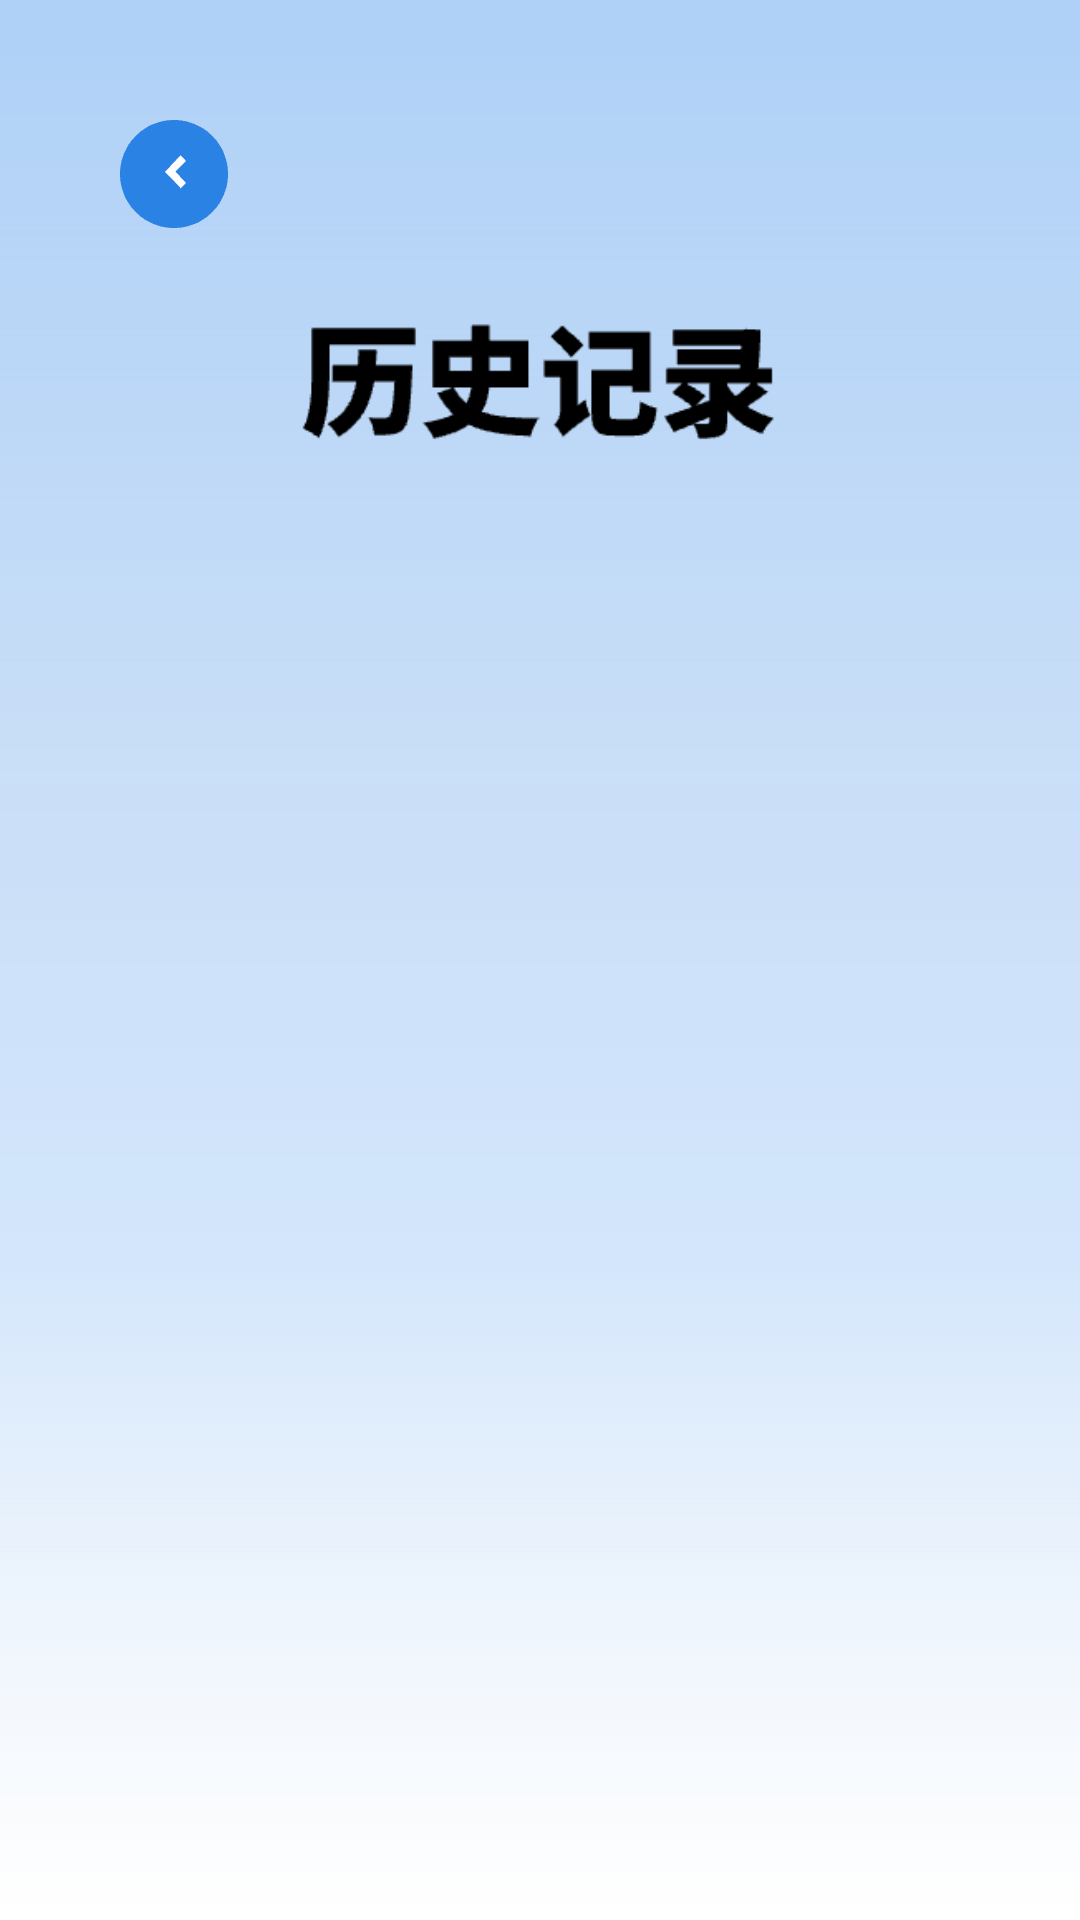

Screen size 1080 x 1920. Icon name, then its box in pixels as (x1, y1, x2, y2):
back: (120, 120, 228, 228)
